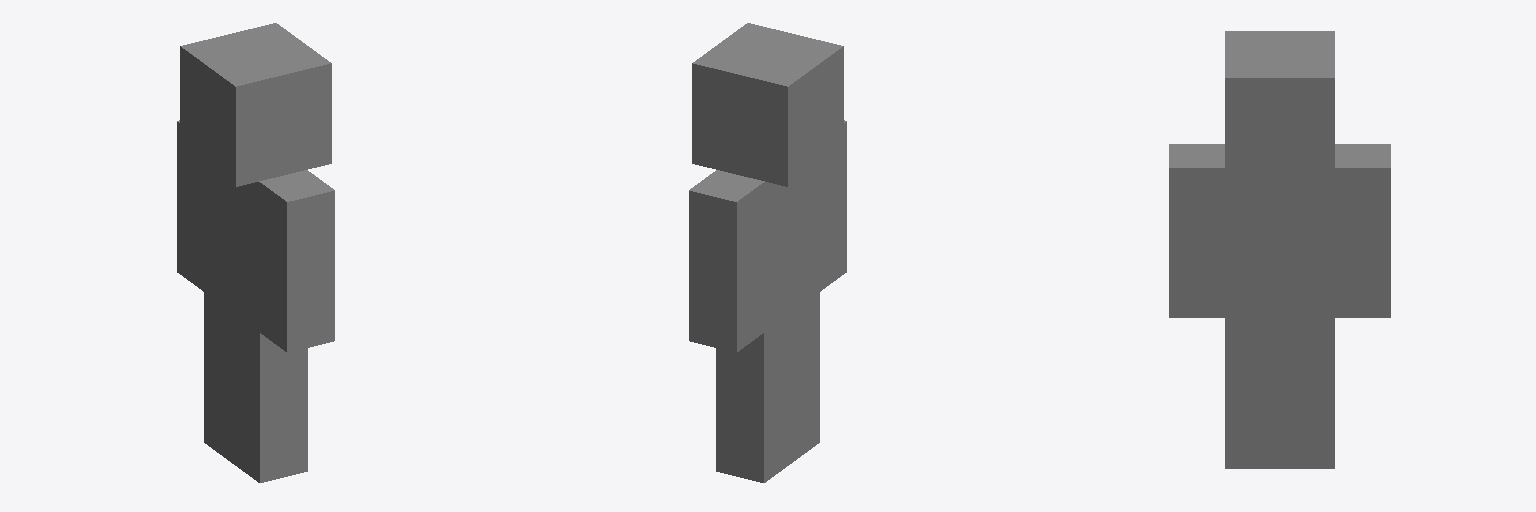
Rendered from sculpture.obj.
3 views of the same model, side by side, from view 1: azimuth 30°, elevation 25°; view 2: azimuth 150°, elevation 25°; view 3: azimuth 270°, elevation 25° (orthographic).
Parts seen in each view (by area): view 1: Box010, Box005, Box013, Box001, Box014, Box002, Box011, Box012, Box007, Box006; view 2: Box010, Box005, Box006, Box011, Box007, Box012, Box001, Box002, Box014, Box013; view 3: Box010, Box005, Box006, Box013, Box007, Box014, Box002, Box012, Box001, Box011.
Boxes of the visible parts, box(x1,y1,x2,y2) form: Box010: box(180, 23, 331, 186); Box005: box(204, 164, 306, 332); Box013: box(260, 170, 334, 277); Box001: box(232, 388, 307, 482); Box014: box(260, 258, 334, 352); Box002: box(232, 313, 307, 407); Box011: box(204, 368, 231, 462); Box012: box(204, 292, 231, 386); Box007: box(177, 197, 203, 291); Box006: box(177, 120, 203, 215); Box010: box(692, 23, 843, 186); Box005: box(717, 164, 819, 332); Box006: box(689, 170, 763, 277); Box011: box(716, 388, 791, 482); Box007: box(689, 258, 763, 352); Box012: box(716, 313, 791, 407); Box001: box(792, 368, 819, 462); Box002: box(792, 292, 819, 386); Box014: box(820, 197, 846, 291); Box013: box(820, 120, 846, 215); Box010: box(1225, 31, 1334, 178); Box005: box(1225, 179, 1334, 317); Box006: box(1335, 144, 1390, 242); Box013: box(1169, 144, 1224, 242); Box007: box(1335, 243, 1390, 317); Box014: box(1169, 243, 1224, 317); Box002: box(1225, 318, 1279, 393); Box012: box(1280, 318, 1334, 393); Box001: box(1225, 394, 1279, 468); Box011: box(1280, 394, 1334, 468).
Size of the model in its own units: 1 by 4.01 by 2.